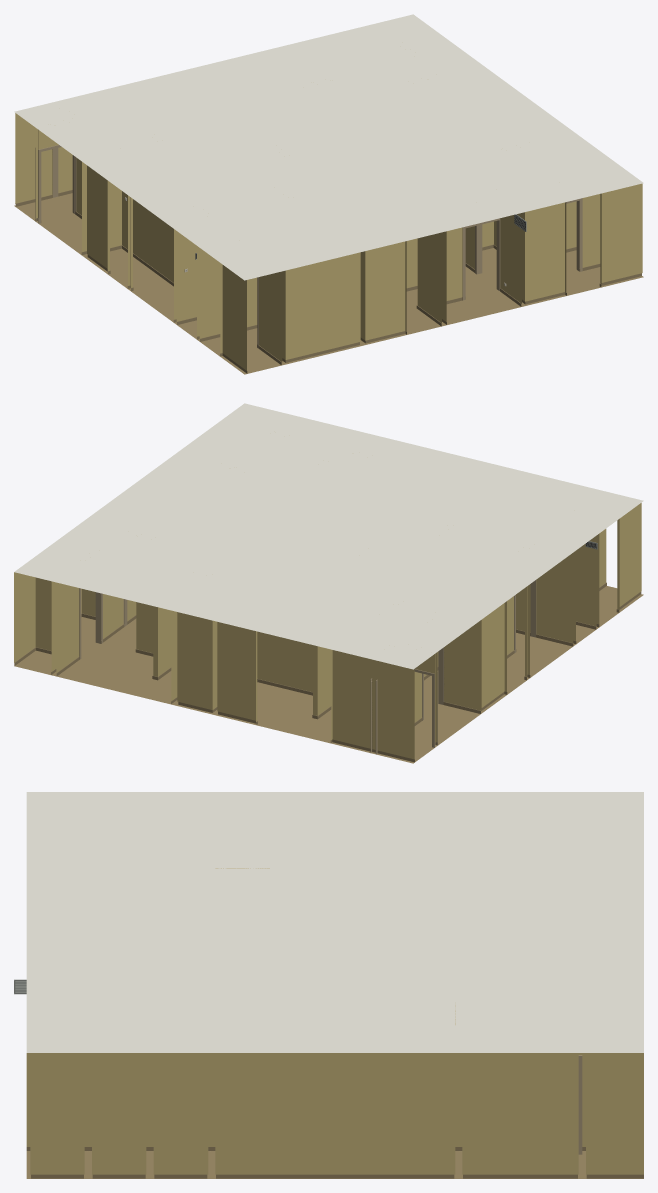
Rendered from chunk_5_2.glb.
The picture shows the model from 3 angles, top to bottom: view 1: azimuth 30°, elevation 25°; view 2: azimuth 150°, elevation 25°; view 3: azimuth 270°, elevation 25°; orthographic projection. The views are drawn at different scales.
Visible parts, largest first — view 1: chunk_5_2; view 2: chunk_5_2; view 3: chunk_5_2.
Boxes of the visible parts, x1=… form: chunk_5_2: x1=14, y1=14, x2=643, y2=374; chunk_5_2: x1=14, y1=403, x2=643, y2=763; chunk_5_2: x1=14, y1=792, x2=643, y2=1178.
Size of the model in its own units: 12.04 by 2.7 by 12.24.
